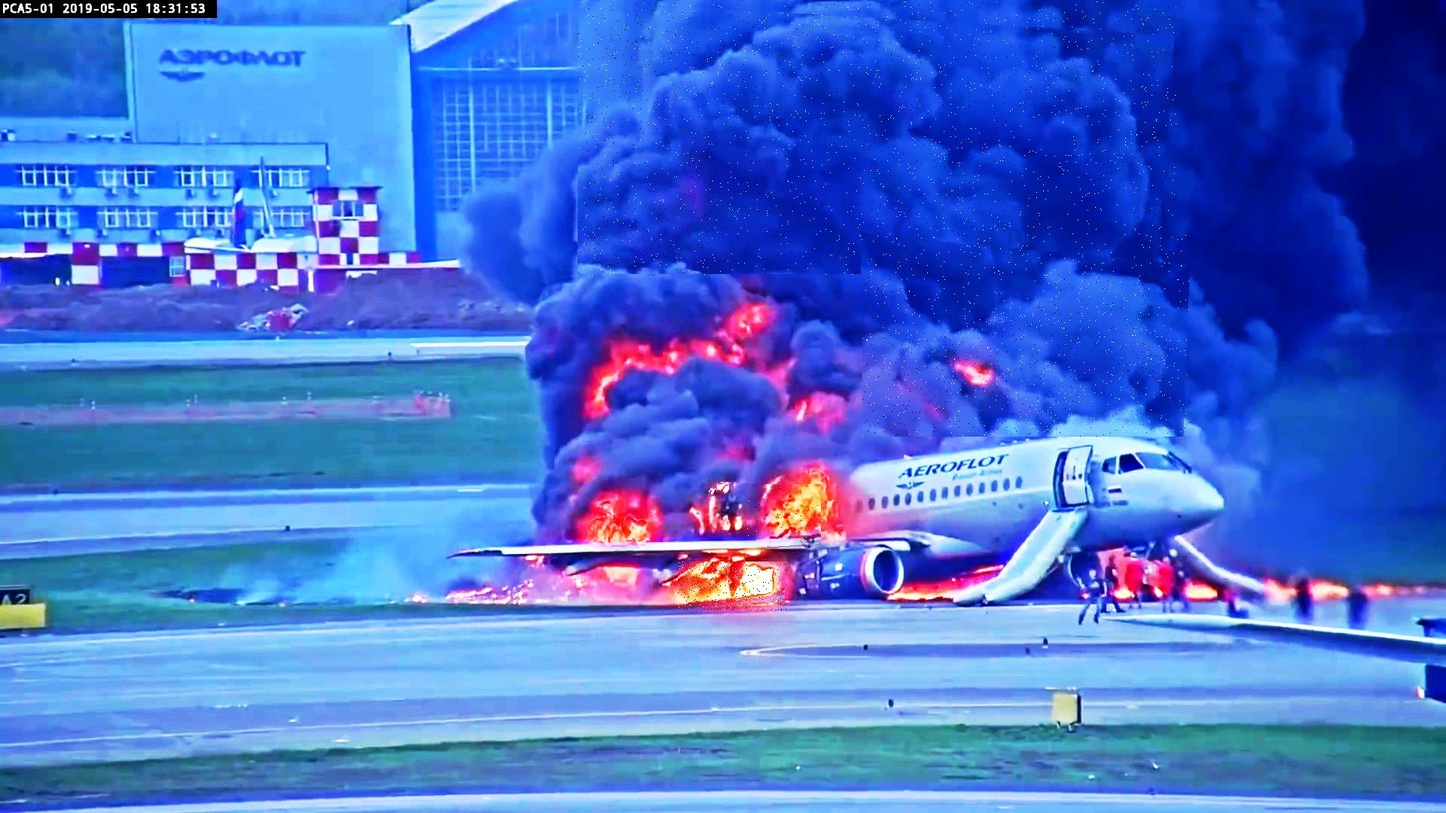fire: (678, 562, 788, 612), (748, 484, 823, 550)
smoke: (578, 2, 1177, 276), (862, 234, 1190, 437)
